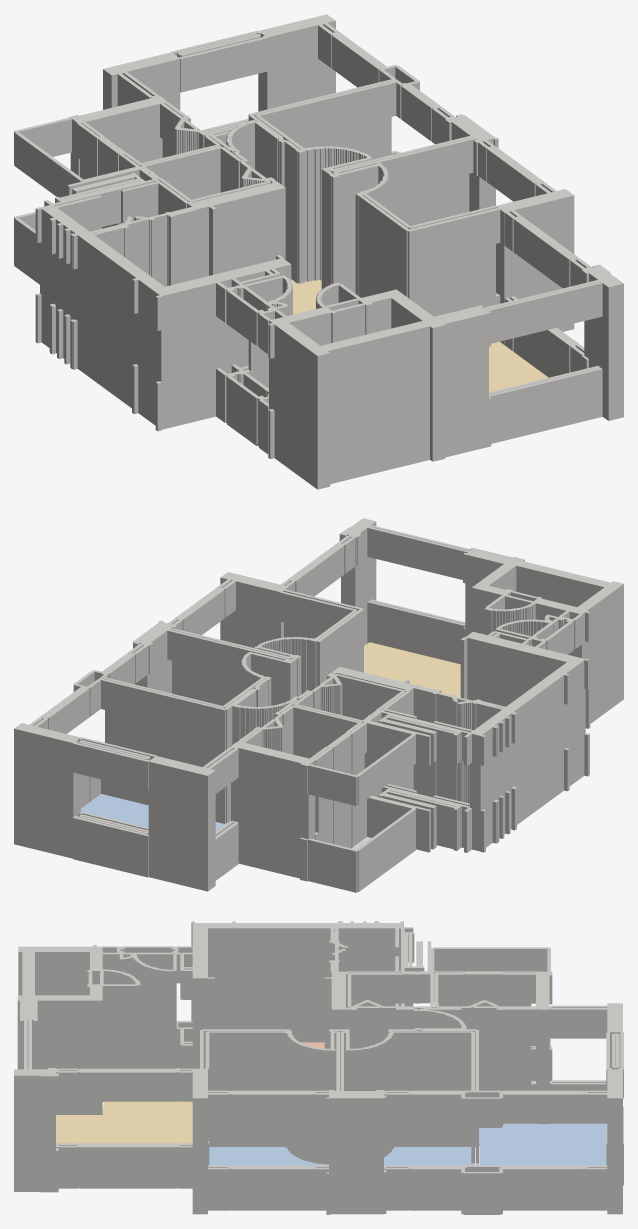
The picture shows the model from 3 angles, top to bottom: view 1: azimuth 30°, elevation 25°; view 2: azimuth 150°, elevation 25°; view 3: azimuth 270°, elevation 25°; orthographic projection. The views are drawn at different scales.
Parts seen in each view (by area): view 1: walls, room:living:0; view 2: walls, room:living:0, room:bedroom:7; view 3: walls, room:bedroom:7, room:living:0, room:bedroom:2, room:bedroom:4.
Boxes of the visible parts, <box> form: walls: <box>14,14,623,489</box>; room:living:0: <box>291,279,548,392</box>; walls: <box>14,518,623,892</box>; room:living:0: <box>364,642,460,697</box>; room:bedroom:7: <box>81,794,230,831</box>; walls: <box>14,921,623,1214</box>; room:bedroom:7: <box>479,1123,606,1165</box>; room:living:0: <box>56,1068,192,1143</box>; room:bedroom:2: <box>209,1147,328,1165</box>; room:bedroom:4: <box>384,1147,471,1165</box>.
Size of the model in its own units: 9.19 by 2.8 by 13.32.
